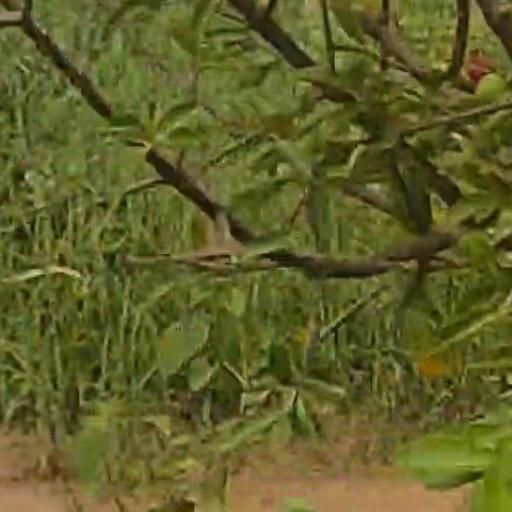acerola_verde: (475, 75, 502, 95)
acerola_vermelha: (463, 55, 490, 83)
